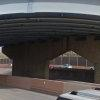Bridge: (2, 6, 95, 70)
